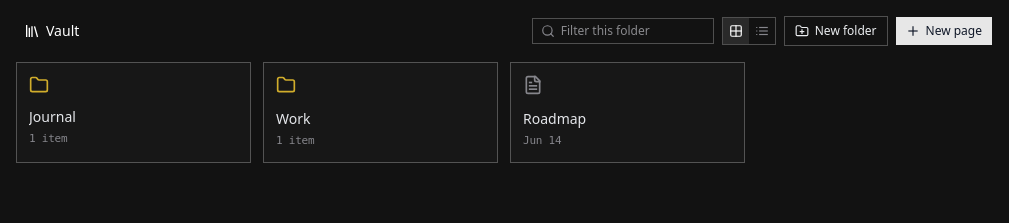
Scenario: VaultBrowserPane - layout and empty states › reports a filter that matches nothing
The width and height of the screenshot is (1009, 223).
Type "zzz" into the field with placeholder "Filter this folder" at (633, 31), box [561,23,705,39]
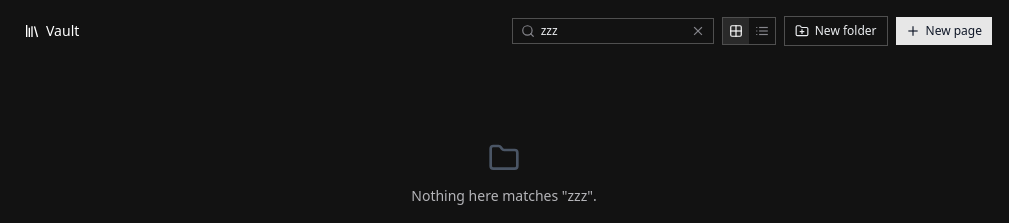
Now the text "Nothing here matches \"zzz\"." is shown, box [411,186,597,206]
